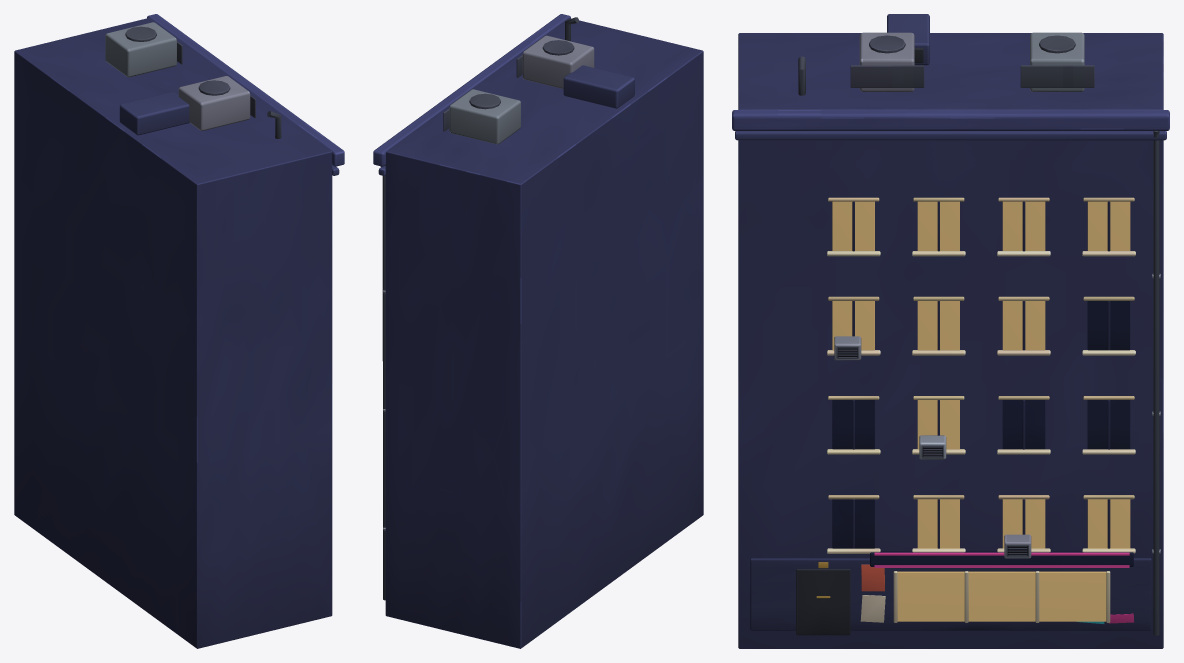
Rendered from SM_Studio_StreetBlock_D.fbx.
The picture shows the model from 3 angles, left to right: view 1: azimuth 30°, elevation 25°; view 2: azimuth 150°, elevation 25°; view 3: azimuth 270°, elevation 25°; orthographic projection. The views are drawn at different scales.
Parts seen in each view (by area): view 1: SM_Studio_StreetBlock_D; view 2: SM_Studio_StreetBlock_D; view 3: SM_Studio_StreetBlock_D.
Part boxes in pixels (x1=…): SM_Studio_StreetBlock_D: x1=14, y1=14, x2=344, y2=648; SM_Studio_StreetBlock_D: x1=373, y1=14, x2=703, y2=648; SM_Studio_StreetBlock_D: x1=732, y1=14, x2=1169, y2=648.
Bounding box in the file's own units: 338 × 1045 × 720.
